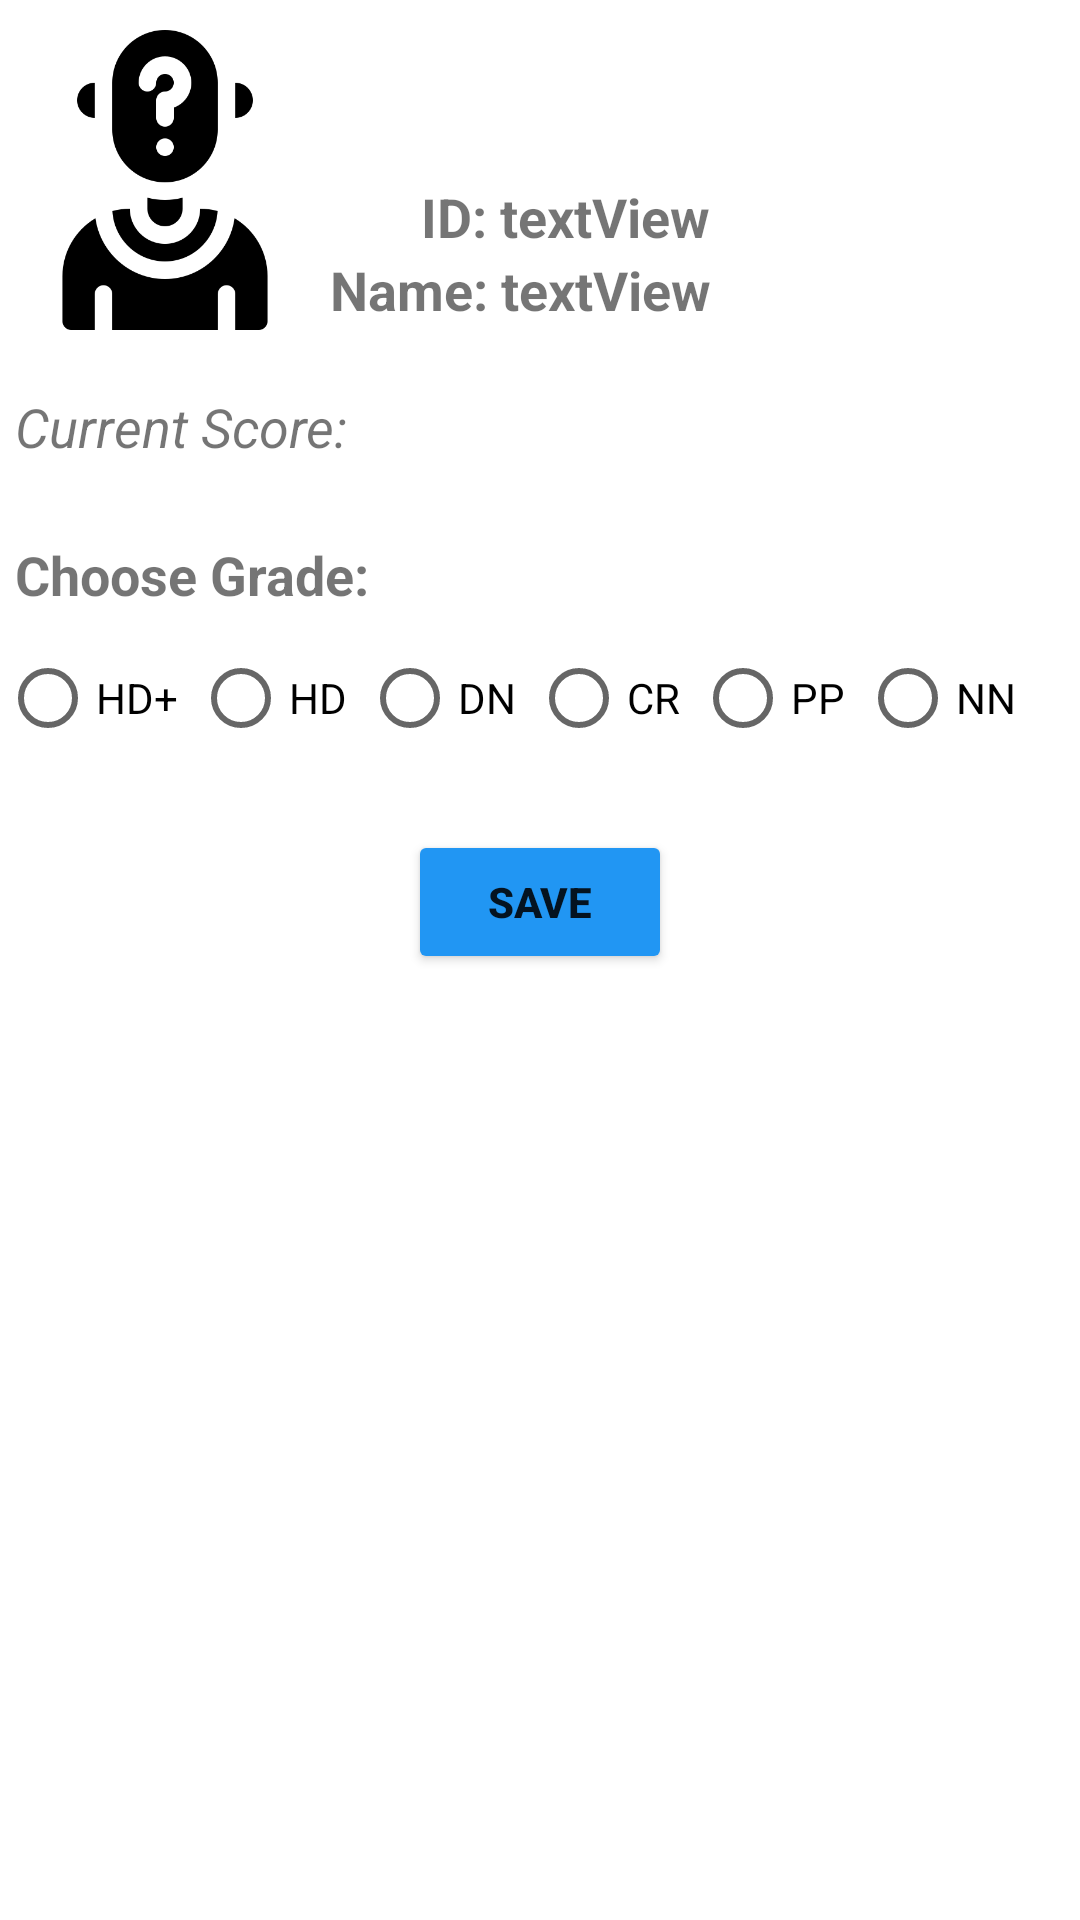

Icon bounding boxes for this 1080w x 1920h phone screenshot, format BBox(x1, y1, x2, y2):
photo: BBox(62, 30, 268, 330)
